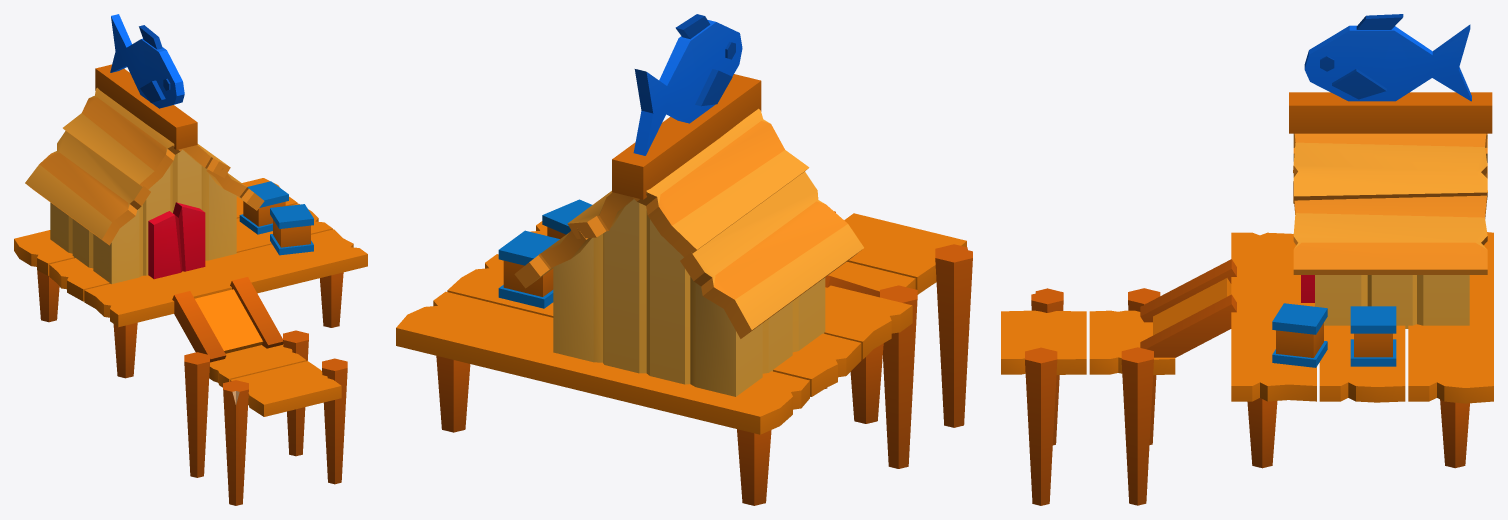
Rendered from Structure_Fisherman_s_Hut_lvl01.fbx.
3 renders of one model, left to right at view 1: azimuth 30°, elevation 25°; view 2: azimuth 150°, elevation 25°; view 3: azimuth 270°, elevation 25°, orthographic. The views are drawn at different scales.
Visible parts, largest first — view 1: Structure_Fisherman's_Hut_lvl01; view 2: Structure_Fisherman's_Hut_lvl01; view 3: Structure_Fisherman's_Hut_lvl01.
Boxes of the visible parts, bbox=[...] form: Structure_Fisherman's_Hut_lvl01: bbox=[14, 14, 367, 505]; Structure_Fisherman's_Hut_lvl01: bbox=[396, 14, 972, 505]; Structure_Fisherman's_Hut_lvl01: bbox=[1001, 14, 1493, 505].
Size of the model in its own units: 731 by 984 by 964.
